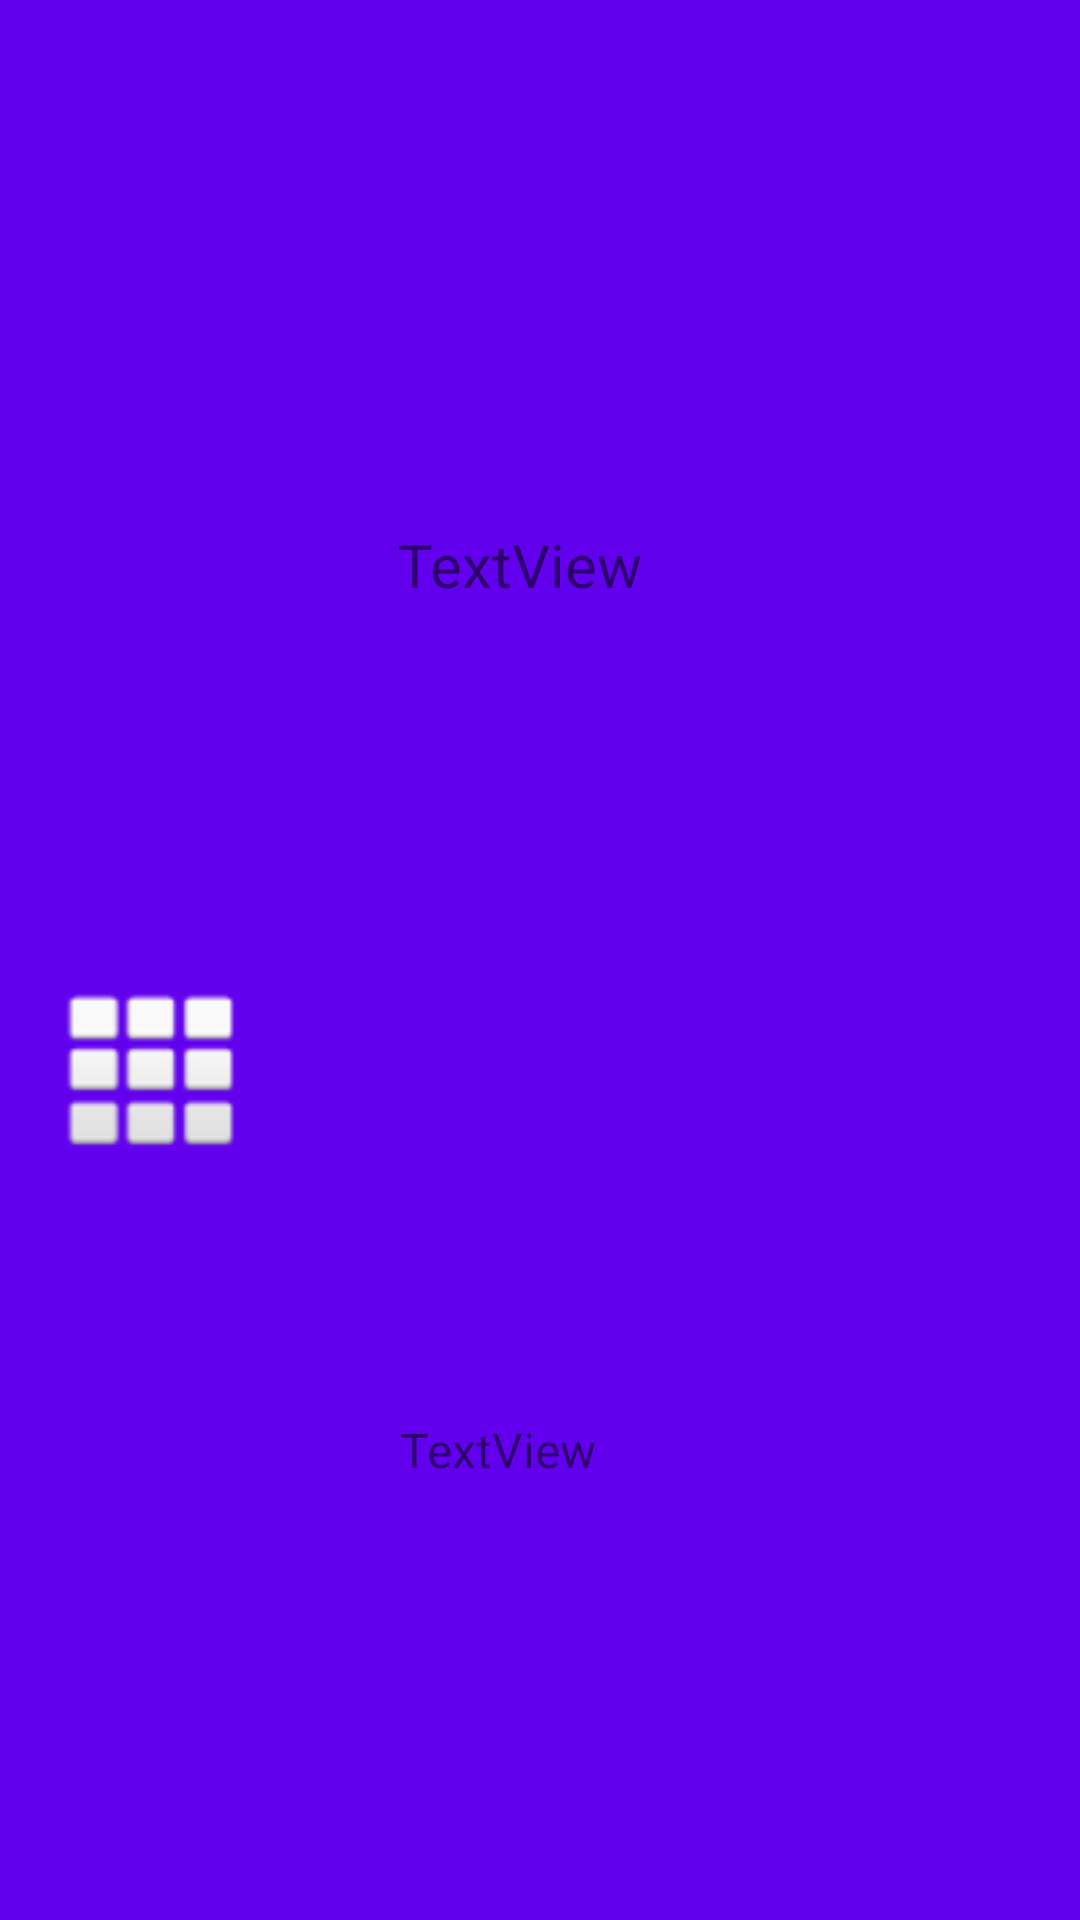

Named icons in this screenshot (1080px×1920px) and their centers, point (x, y):
dialer: point (150, 1069)
